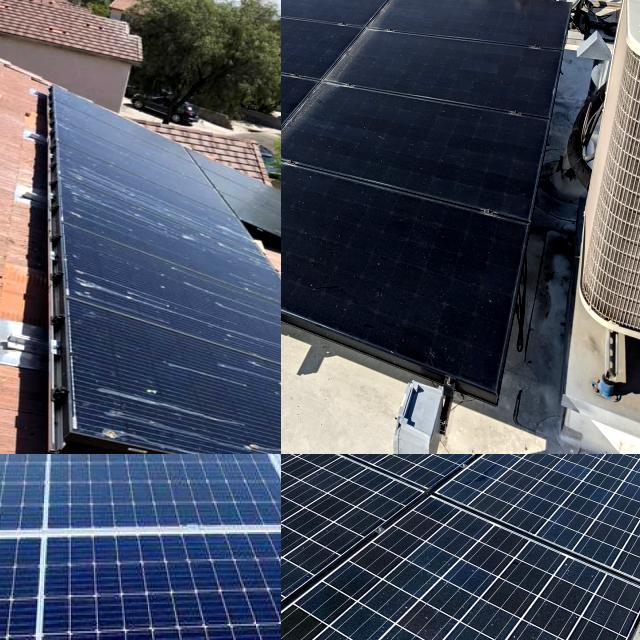bird: (146, 332, 240, 378), (213, 234, 281, 295)
crack: (29, 519, 281, 640), (36, 454, 281, 549), (0, 454, 159, 577)
dust: (281, 191, 466, 317), (406, 560, 576, 640), (427, 454, 624, 513), (336, 111, 513, 169), (382, 49, 534, 92), (281, 576, 367, 640), (281, 141, 359, 205), (281, 72, 345, 124), (281, 19, 337, 55)
